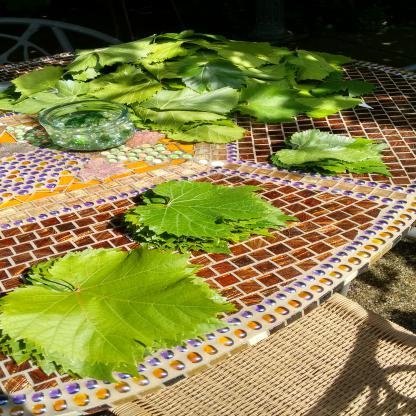grape leaf: (7, 249, 234, 379), (135, 175, 293, 242), (278, 134, 387, 171), (240, 85, 314, 124), (84, 76, 170, 105), (178, 60, 250, 92), (7, 65, 68, 97)
